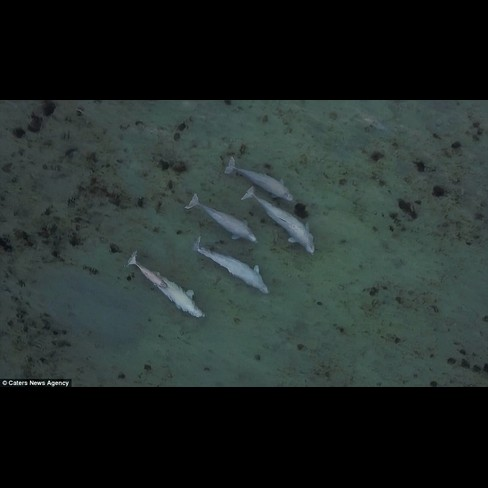beluga: (238, 182, 323, 259), (122, 248, 207, 323), (188, 236, 279, 300), (181, 189, 259, 246), (220, 155, 296, 205)
